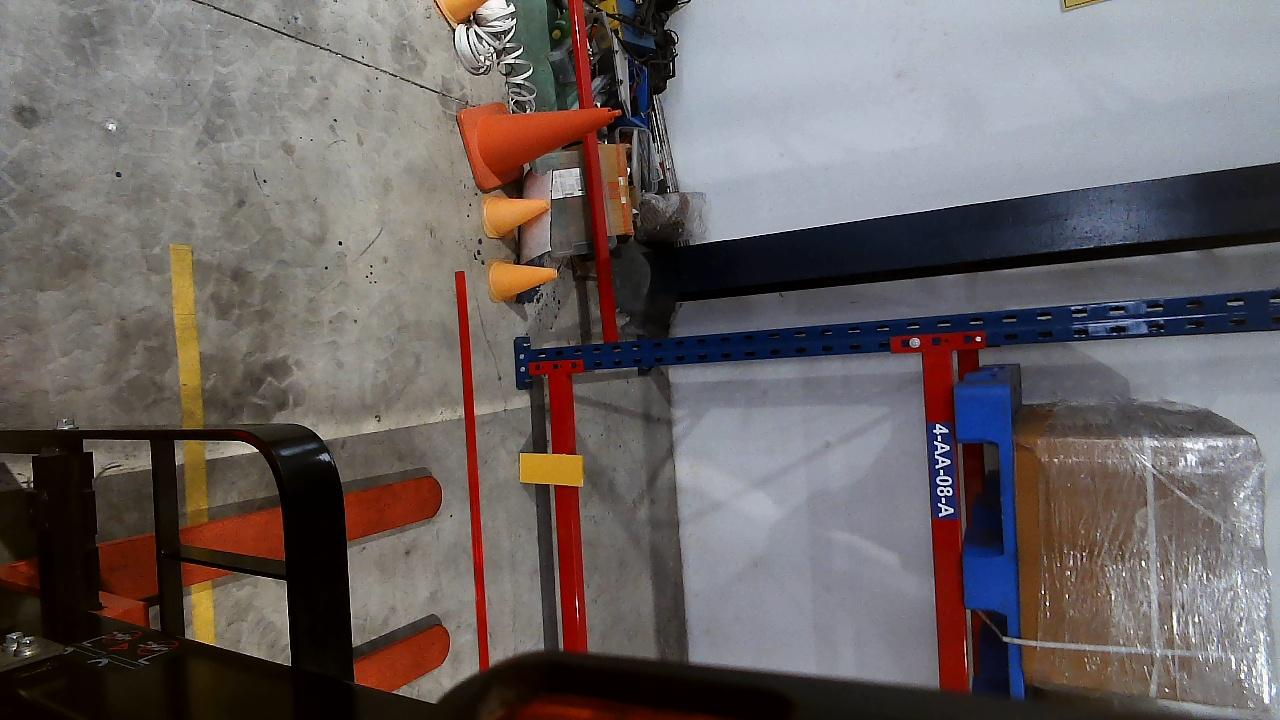h_rack: (920, 349, 968, 691), (547, 372, 586, 653)
orange_strip: (519, 453, 584, 487)
red_line: (454, 272, 491, 657)
small_pallet: (954, 383, 1016, 691)
yellow_line: (176, 244, 213, 642)
